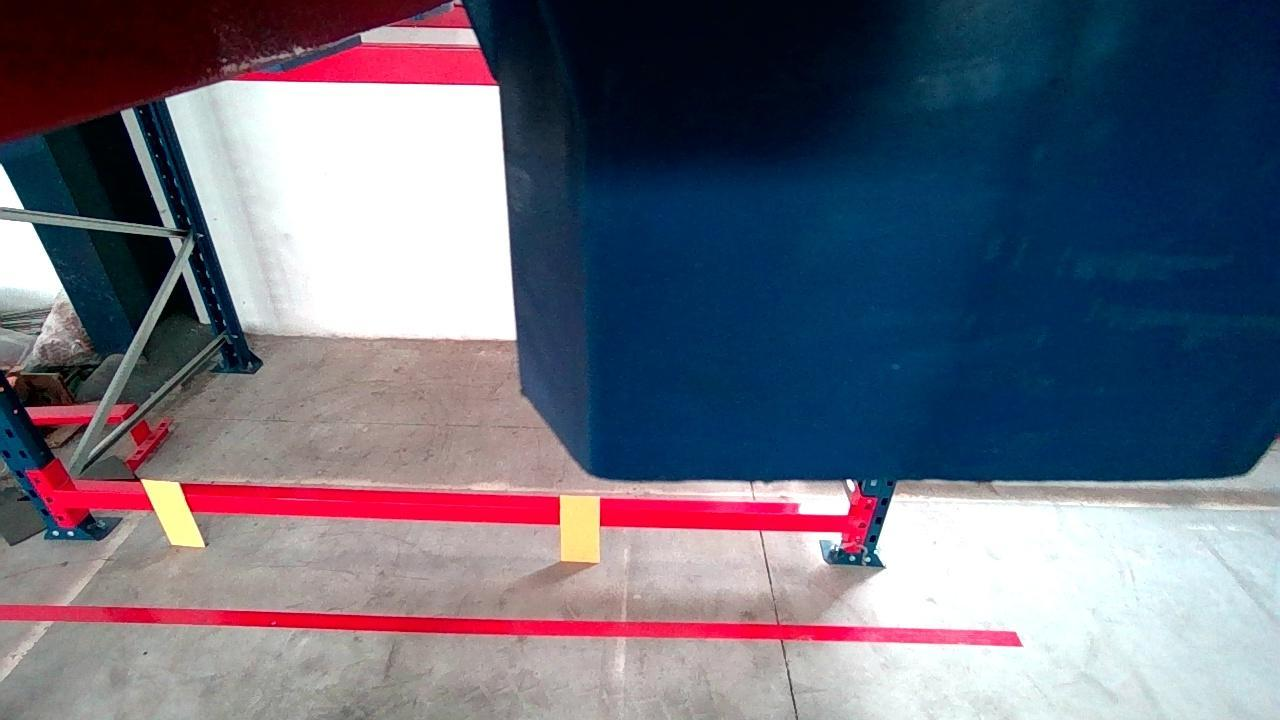h_rack: (54, 488, 847, 532)
orange_strip: (142, 482, 203, 546), (561, 495, 599, 560)
red_line: (1, 603, 1026, 646)
